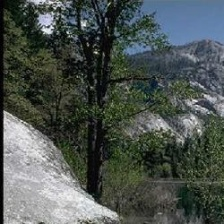neutral: (3, 2, 222, 221)
